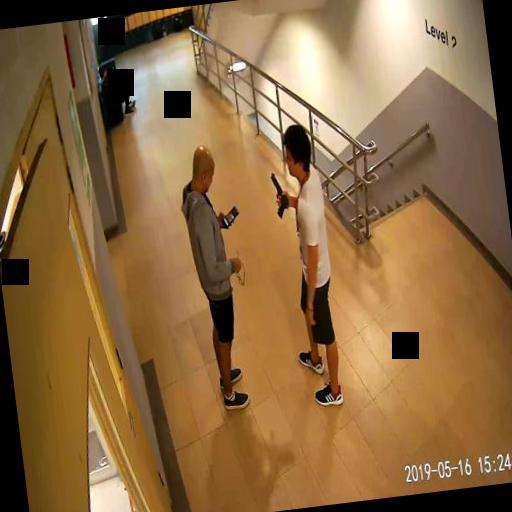Handgun: (269, 170, 289, 217)
